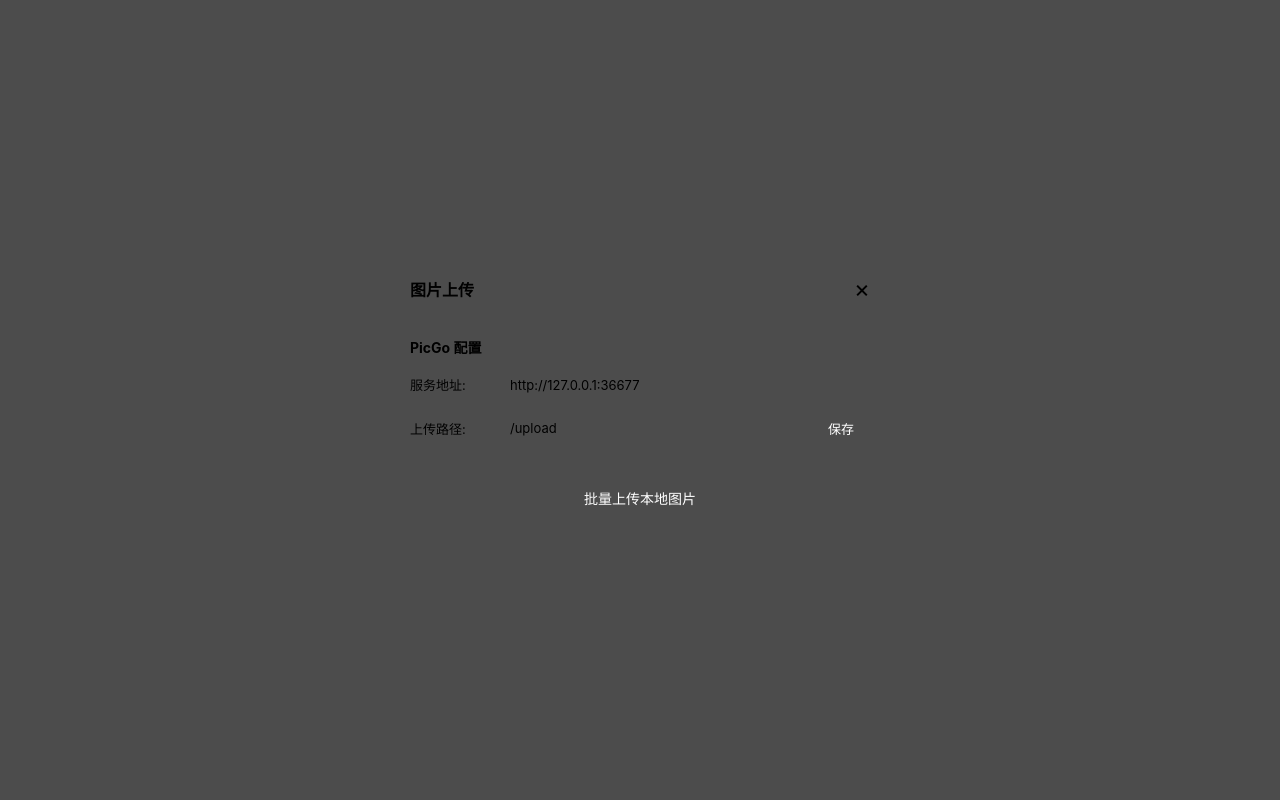
Modals & App Integration (30+ tests) › ImageUpload › reports when no local images exist
This screenshot has width=1280, height=800.
Click the button "批量上传本地图片": (640, 498) top-left (410, 476), bottom-right (870, 520)
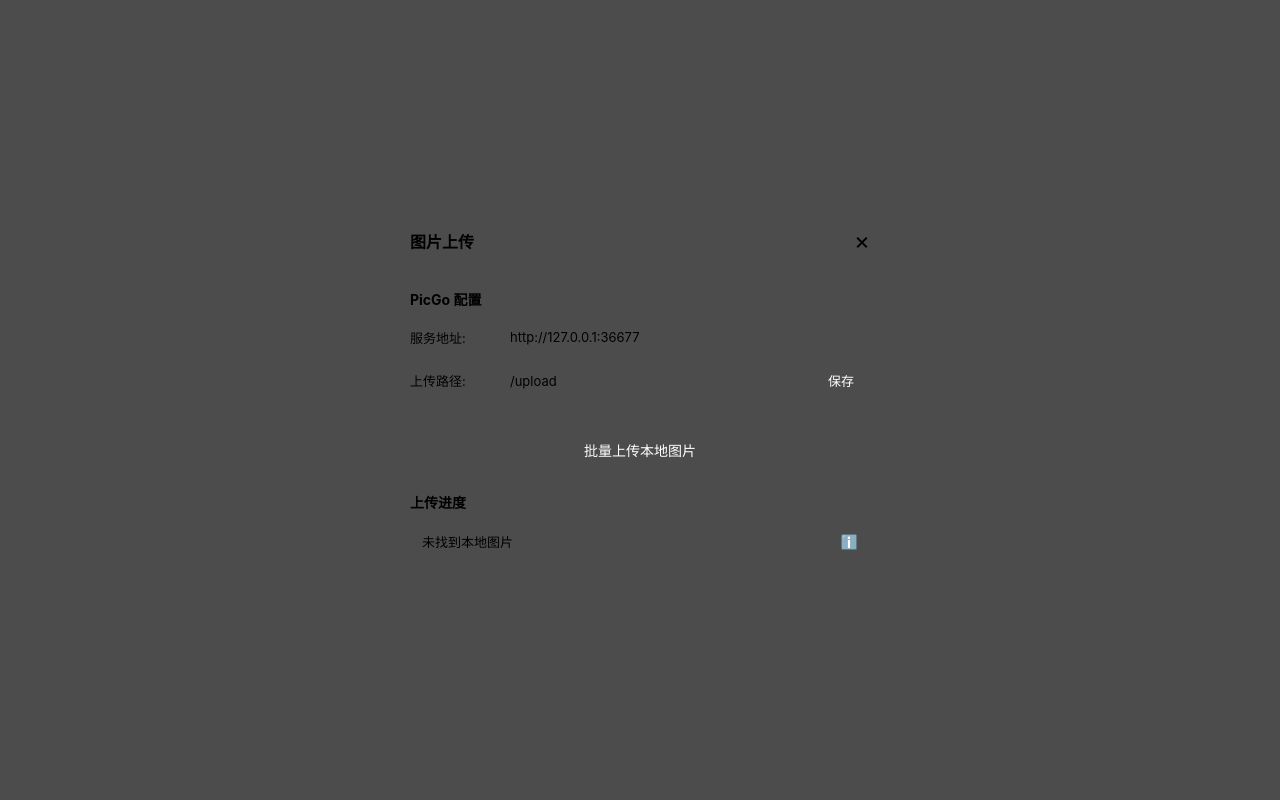
Result: the text "未找到本地图片" is shown at top-left (422, 532), bottom-right (513, 551)
